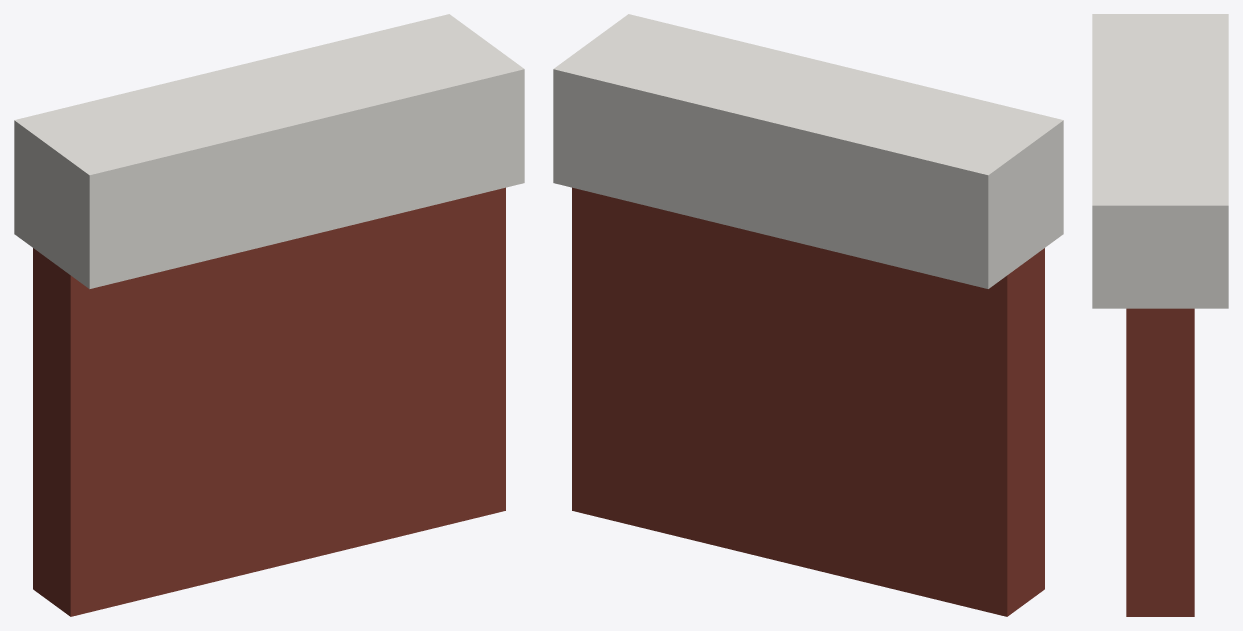
Rendered from halfWallCorner.fbx.
3 views of the same model, side by side, from view 1: azimuth 30°, elevation 25°; view 2: azimuth 150°, elevation 25°; view 3: azimuth 270°, elevation 25° (orthographic). The views are drawn at different scales.
Parts seen in each view (by area): view 1: halfWallCorner; view 2: halfWallCorner; view 3: halfWallCorner.
Part boxes in pixels (x1,y1,x2,y2): halfWallCorner: (14, 14, 524, 616); halfWallCorner: (553, 14, 1063, 616); halfWallCorner: (1092, 14, 1228, 616).
Bounding box in the file's own units: 200 × 200 × 60.
1 material, 1 textured.
